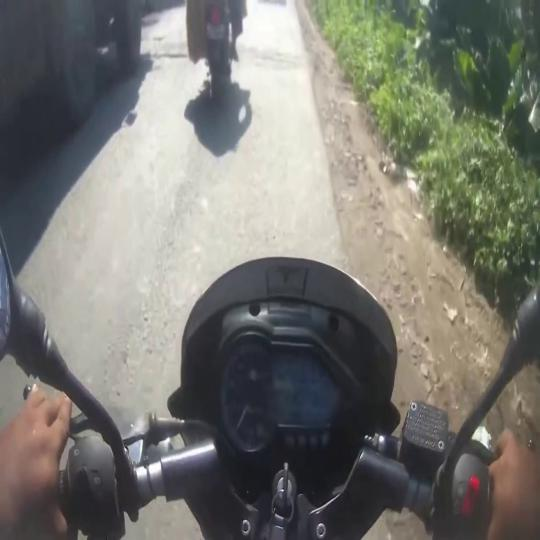Speed Bump: (237, 41, 314, 67), (141, 37, 188, 58)
